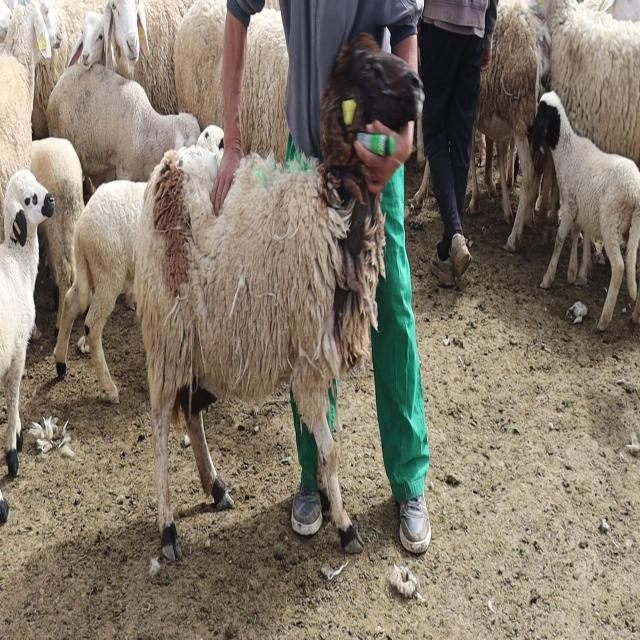Score_1: (135, 34, 424, 559)
